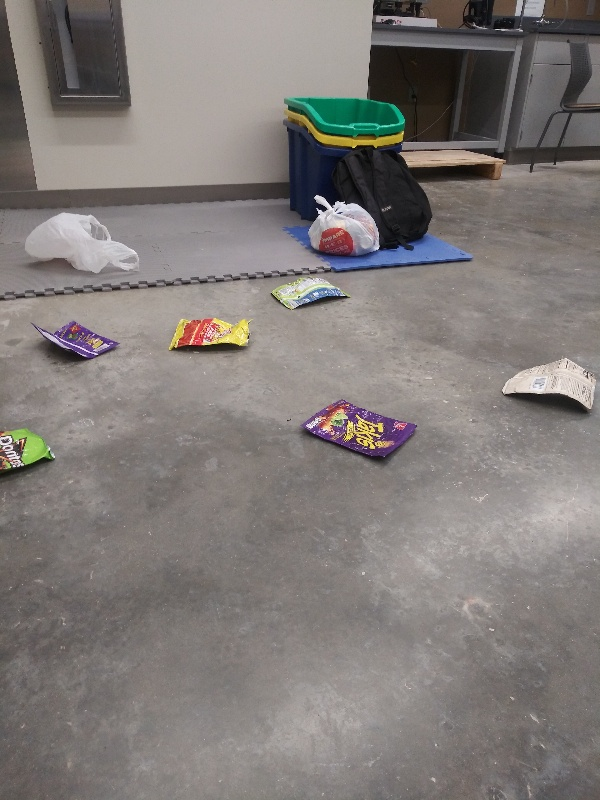bag: (296, 396, 420, 466), (494, 354, 600, 412), (28, 311, 123, 364), (163, 311, 257, 354), (265, 271, 354, 311), (1, 423, 59, 481)
